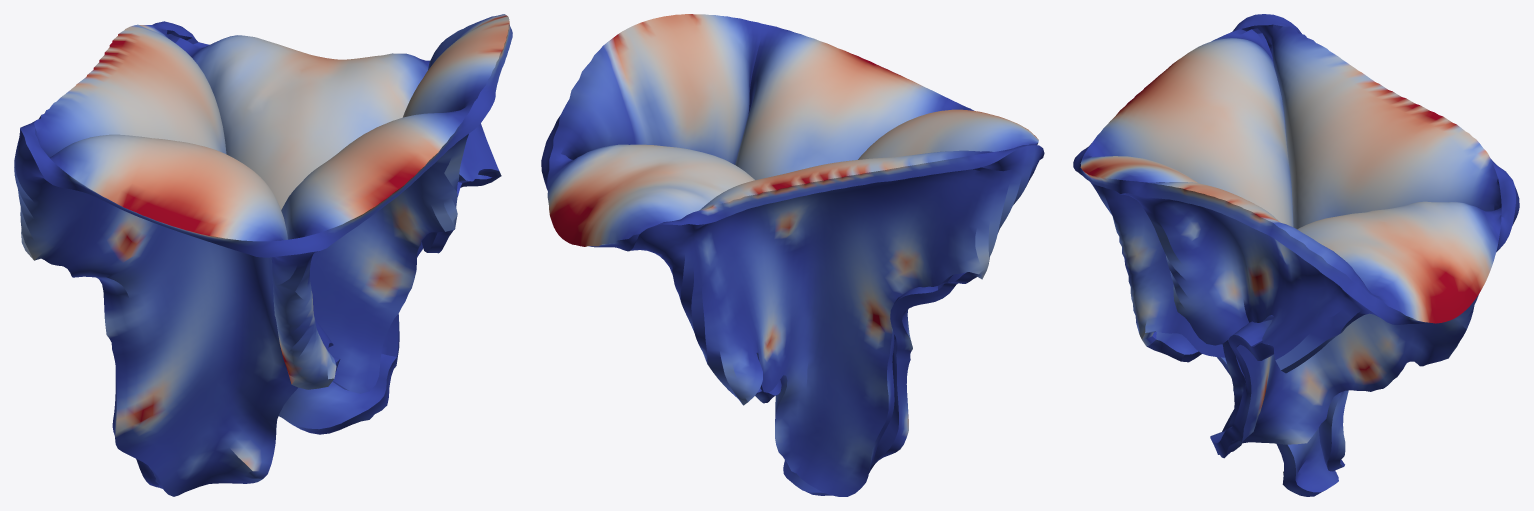
Rendered from Continuum_Def.glb.
The picture shows the model from 3 angles, left to right: view 1: azimuth 30°, elevation 25°; view 2: azimuth 150°, elevation 25°; view 3: azimuth 270°, elevation 25°; orthographic projection. The views are drawn at different scales.
Parts seen in each view (by area): view 1: Continuum_20; view 2: Continuum_20; view 3: Continuum_20.
Part boxes in pixels (box(x1,y1,x2,y2)): Continuum_20: box(14, 14, 512, 496); Continuum_20: box(541, 14, 1044, 496); Continuum_20: box(1073, 14, 1519, 496).
Size of the model in its own units: 0.2717 by 0.2261 by 0.2321.
